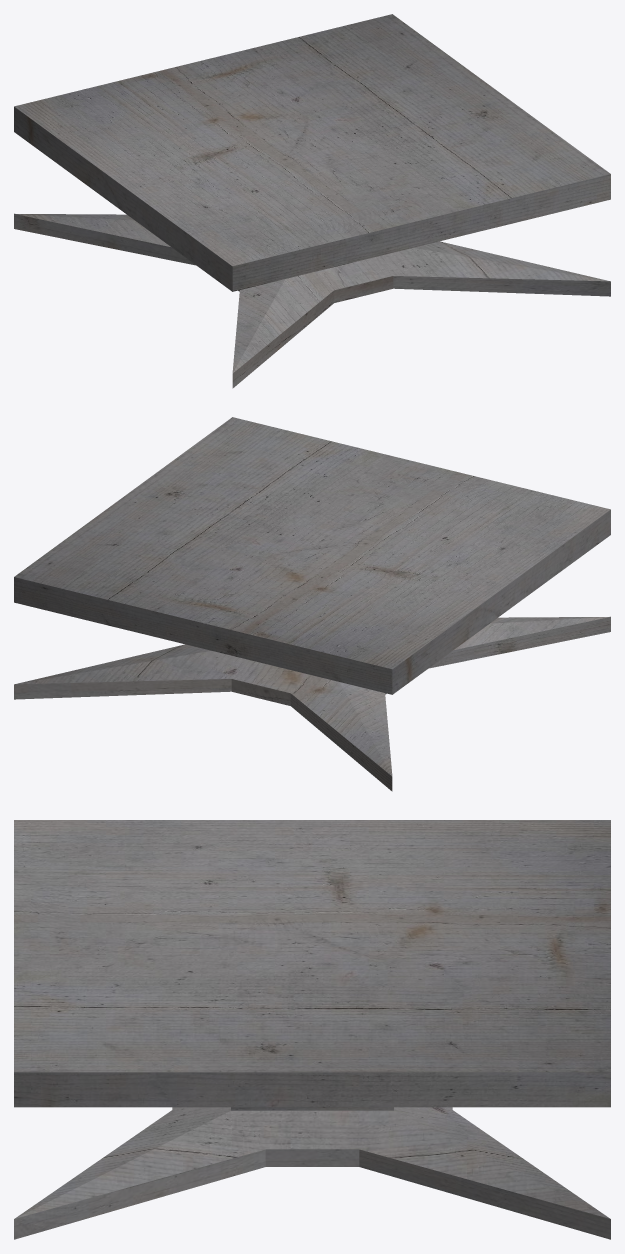
File: desk.glb
The picture shows the model from 3 angles, top to bottom: view 1: azimuth 30°, elevation 25°; view 2: azimuth 150°, elevation 25°; view 3: azimuth 270°, elevation 25°; orthographic projection. The views are drawn at different scales.
Parts seen in each view (by area): view 1: Cube; view 2: Cube; view 3: Cube.
Boxes of the visible parts, x1,y1,x2,y2 form: Cube: (14, 14, 610, 388); Cube: (14, 417, 610, 791); Cube: (14, 820, 610, 1239).
Size of the model in its own units: 1.91 by 0.5919 by 1.91.
Materials: 1 (1 with a texture image).
